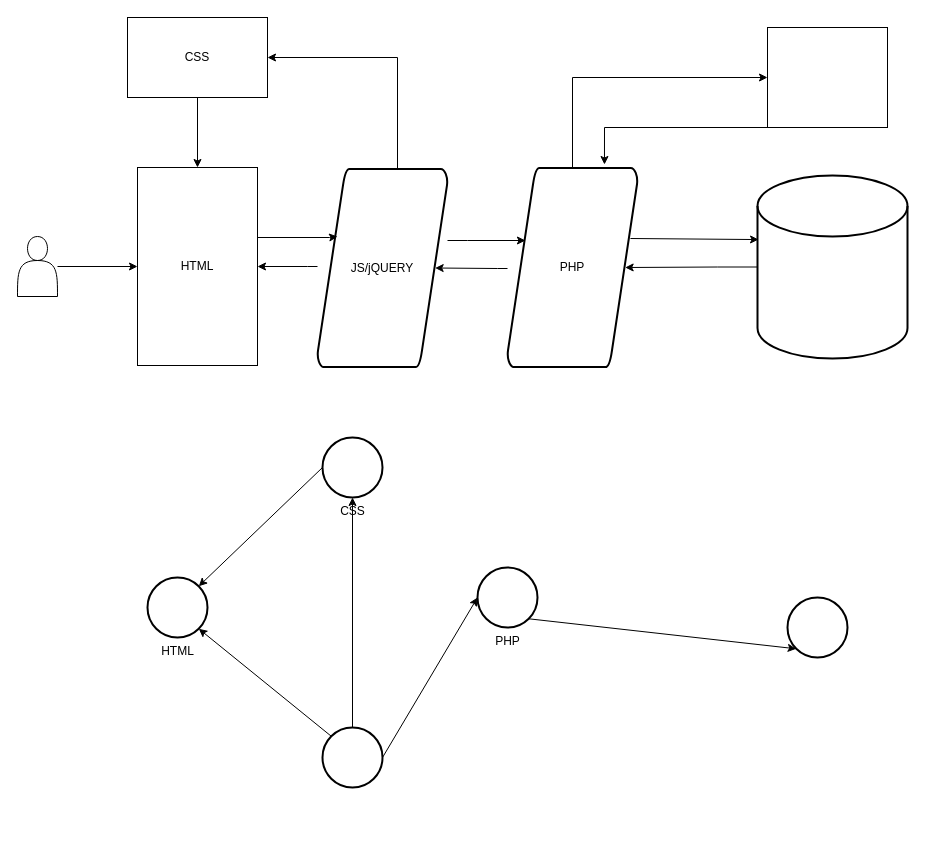
Image size: 926x841. Some labels were removed from this diagram. The centre of each missing label's shape, as x and y in pixels:
"DB" belongs at point 832,266.
"JS" belongs at point 352,757.
"MySQL" belongs at point 817,627.
"Web Server" belongs at point 827,77.
